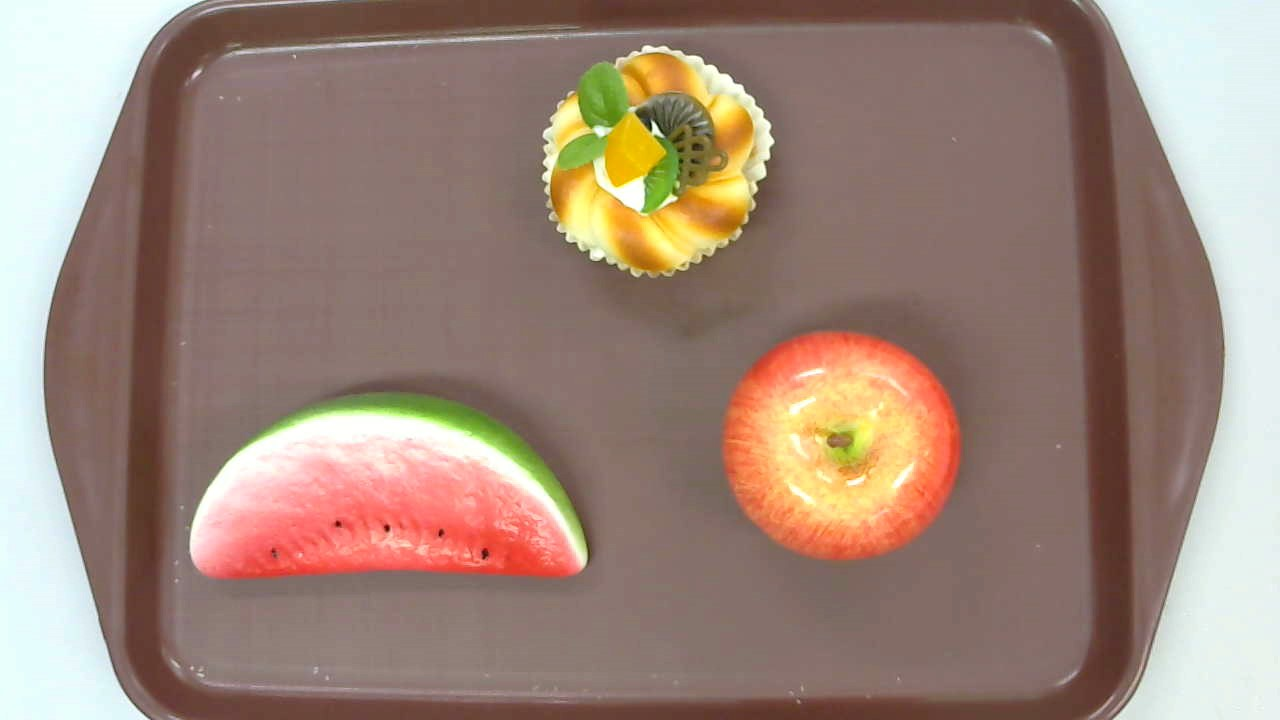fruit tart: (539, 43, 776, 279)
red apple: (722, 332, 962, 559)
water melon: (187, 392, 588, 582)
